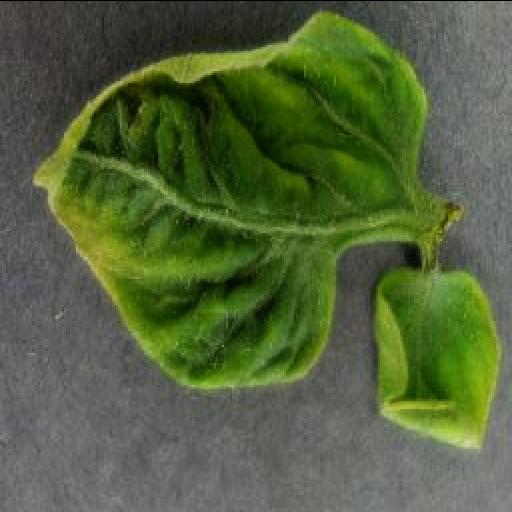disease_tomato: (30, 9, 426, 393), (373, 266, 499, 450)
